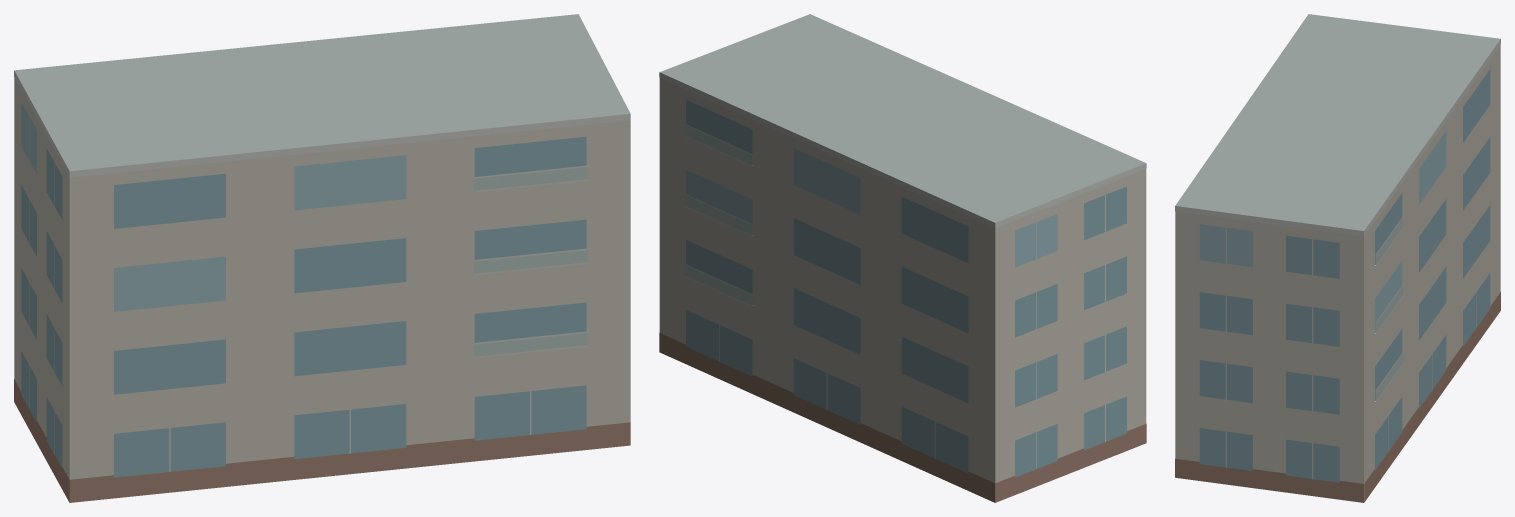
File: survey-upis-32877706.glb
3 renders of one model, left to right at view 1: azimuth 30°, elevation 25°; view 2: azimuth 150°, elevation 25°; view 3: azimuth 270°, elevation 25°, orthographic. The views are drawn at different scales.
Parts seen in each view (by area): view 1: survey-upis-32877706.tmp; view 2: survey-upis-32877706.tmp; view 3: survey-upis-32877706.tmp.
Boxes of the visible parts, x1,y1,x2,y2 form: survey-upis-32877706.tmp: (14,14,630,502); survey-upis-32877706.tmp: (659,14,1146,502); survey-upis-32877706.tmp: (1175,14,1500,502).
Bounding box in the file's own units: 21.25 × 12.4 × 13.48.
